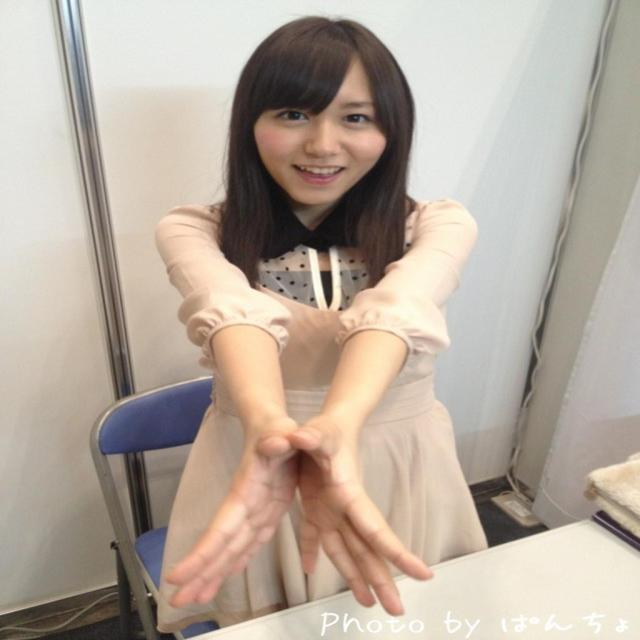Face: (227, 39, 431, 239)
